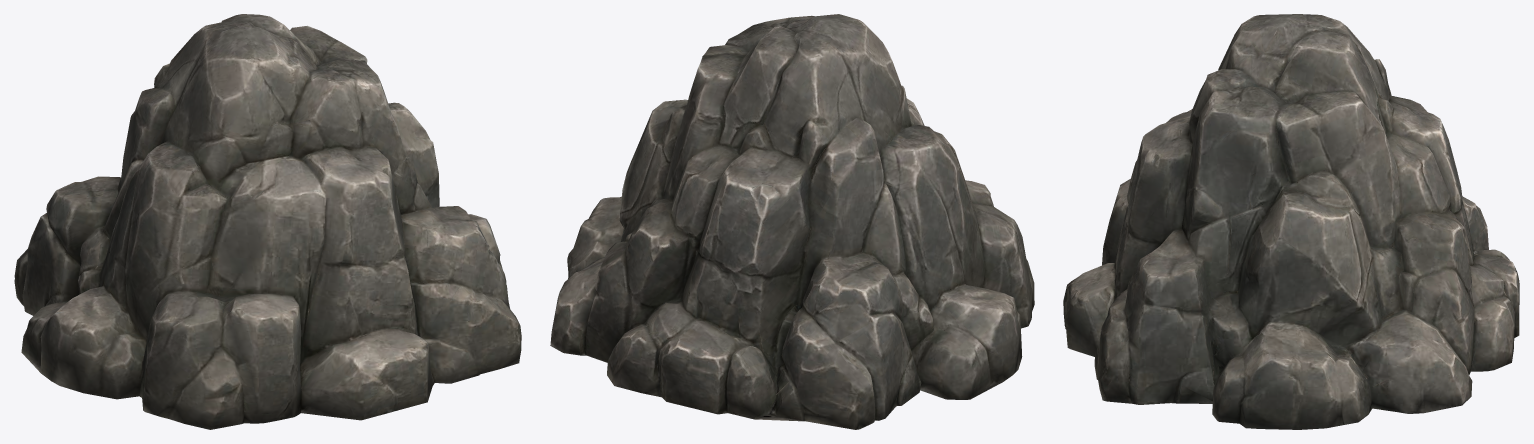
The model's file is rock_pile.glb.
3 views of the same model, side by side, from view 1: azimuth 30°, elevation 25°; view 2: azimuth 150°, elevation 25°; view 3: azimuth 270°, elevation 25° (orthographic). The views are drawn at different scales.
Visible parts, largest first — view 1: turn; view 2: turn; view 3: turn.
Part boxes in pixels (<box>): turn: <box>14,14,521,429</box>; turn: <box>550,14,1034,429</box>; turn: <box>1063,14,1519,429</box>.
Size of the model in its own units: 1.92 by 1.3 by 1.79.
Materials: 1 (1 with a texture image).
